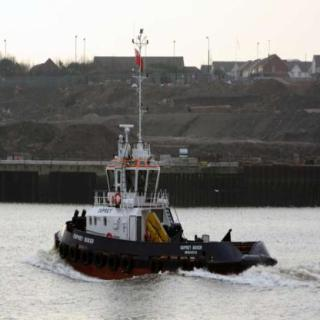Tug Boat: (50, 125, 279, 278)
